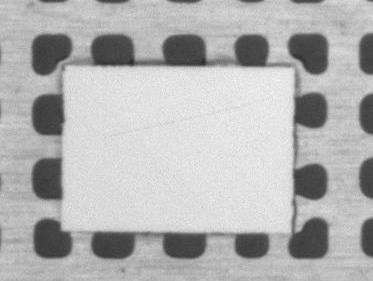DIE_CRACK: (138, 79, 328, 103)
